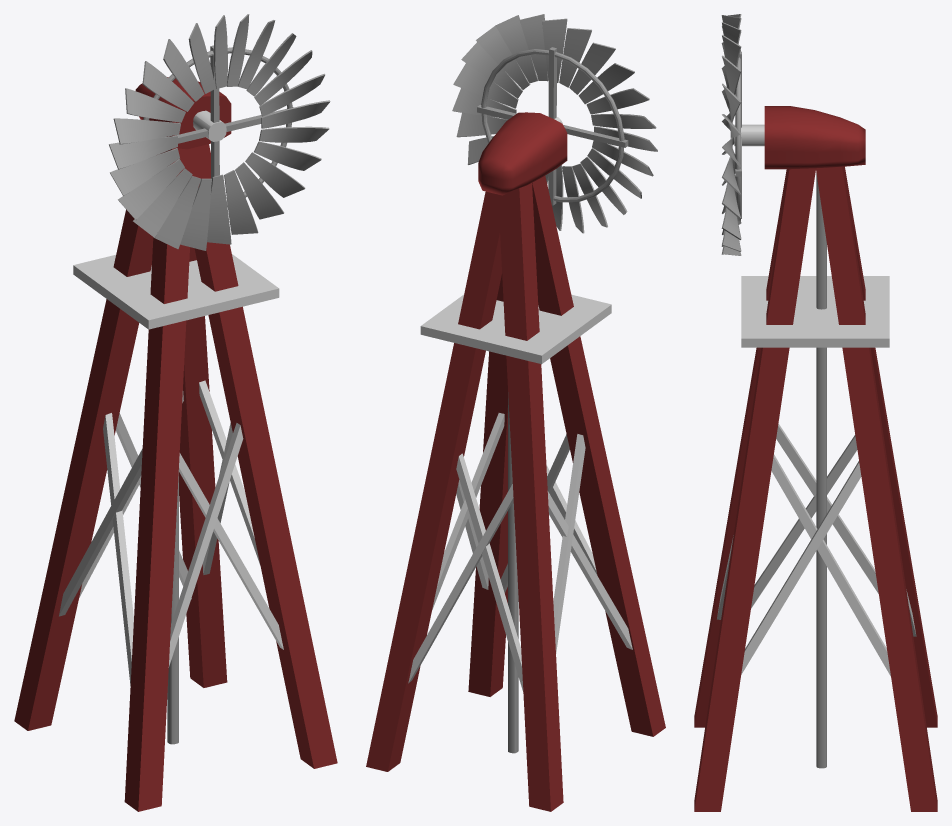
The model's file is windmil.fbx.
3 views of the same model, side by side, from view 1: azimuth 30°, elevation 25°; view 2: azimuth 150°, elevation 25°; view 3: azimuth 270°, elevation 25° (orthographic). The views are drawn at different scales.
Parts seen in each view (by area): view 1: pasted__pasted__pCube26, blades; view 2: pasted__pasted__pCube26, blades; view 3: pasted__pasted__pCube26, blades.
Boxes of the visible parts, x1=… form: pasted__pasted__pCube26: x1=14, y1=77, x2=337, y2=811; blades: x1=109, y1=14, x2=330, y2=250; pasted__pasted__pCube26: x1=366, y1=112, x2=665, y2=811; blades: x1=452, y1=14, x2=657, y2=233; pasted__pasted__pCube26: x1=694, y1=106, x2=937, y2=811; blades: x1=721, y1=14, x2=764, y2=255.
Bounding box in the file's own units: 2.13 × 7.24 × 2.16.
